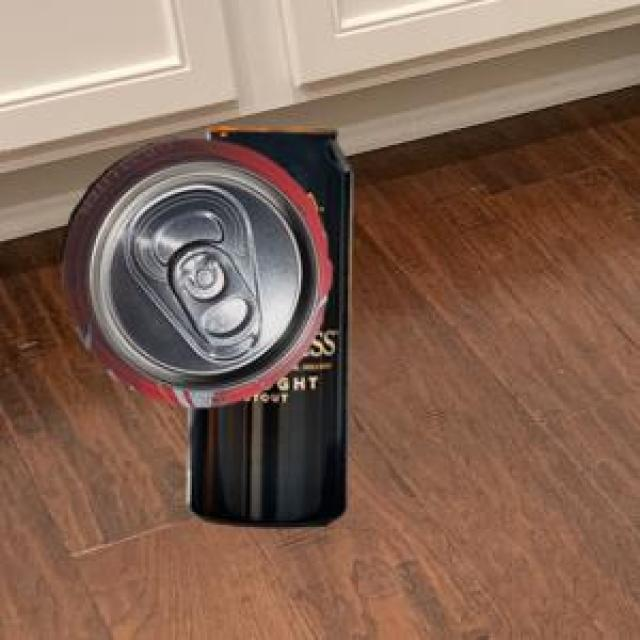logam: (61, 135, 327, 404), (185, 125, 349, 524)
